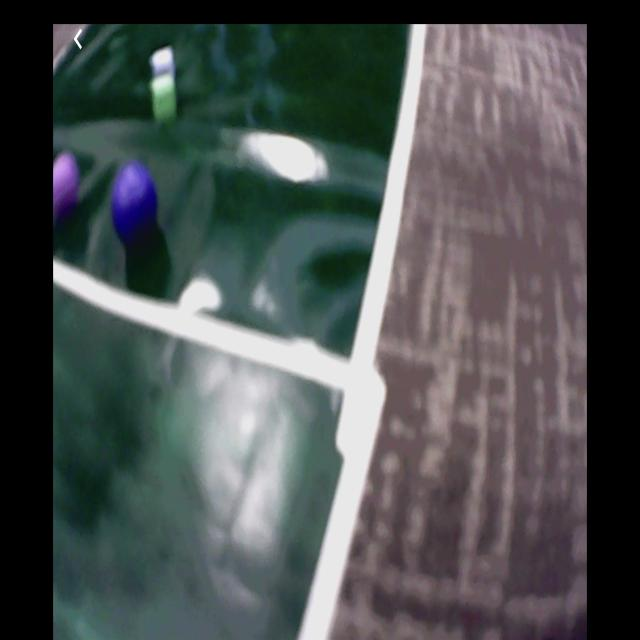ball: (113, 164, 158, 240), (55, 153, 80, 212)
